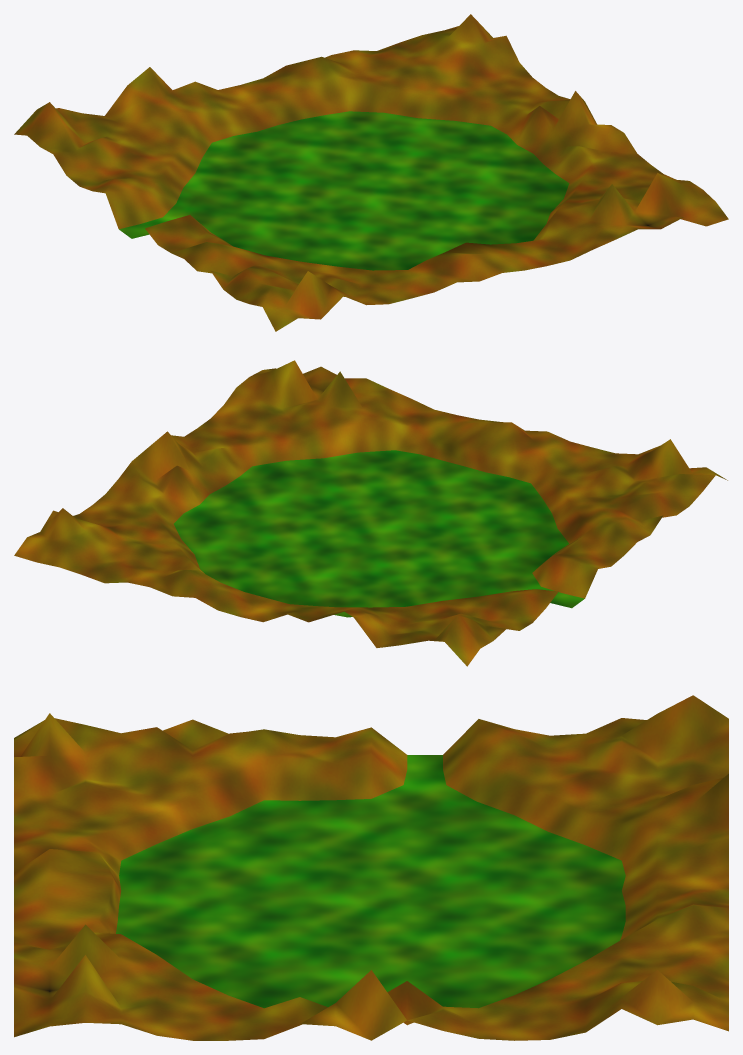
Rendered from terrain.glb.
3 renders of one model, top to bottom at view 1: azimuth 30°, elevation 25°; view 2: azimuth 150°, elevation 25°; view 3: azimuth 270°, elevation 25°, orthographic. The views are drawn at different scales.
Visible parts, largest first — view 1: Plane; view 2: Plane; view 3: Plane.
Boxes of the visible parts, x1,y1,x2,y2 form: Plane: (14, 14, 728, 331); Plane: (14, 360, 727, 666); Plane: (14, 695, 728, 1040).
Size of the model in its own units: 800 by 92.38 by 800.
2 materials, 2 textured.
